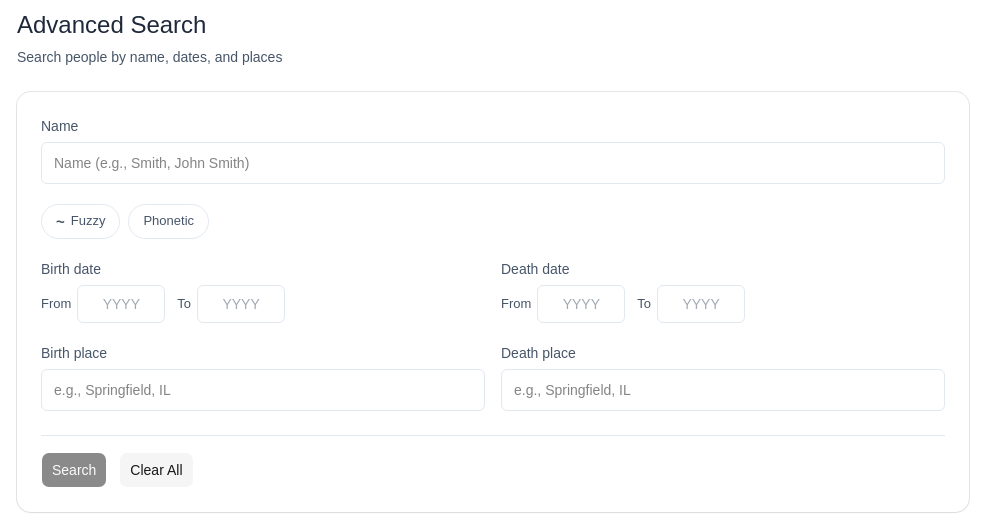
Scenario: Advanced Search Page › Form Interactions › Clear All resets all form fields to defaults
# Fill in various fields
Type "Smith" into the field with placeholder "Name (e.g., Smith, John Smith)" at (493, 163), box [41, 142, 945, 184]
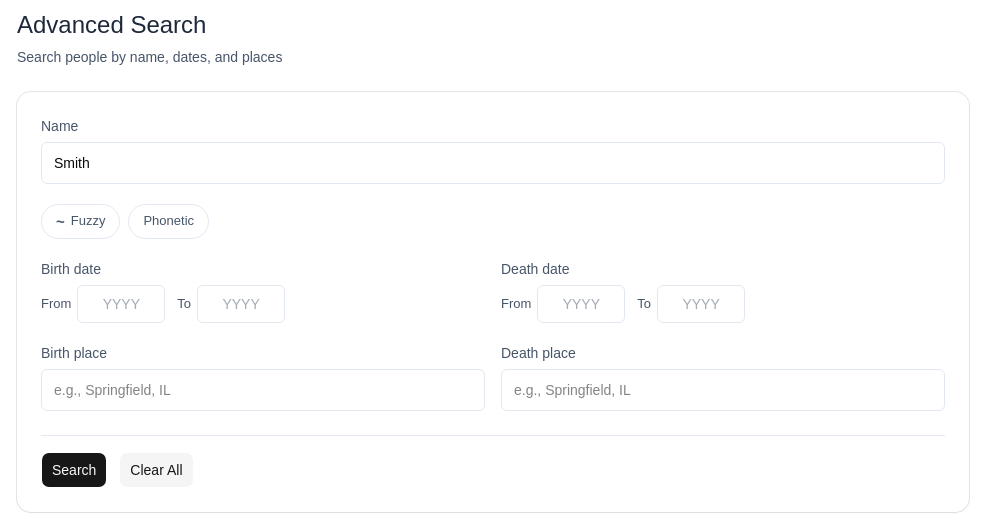
Type "1850" into the field with placeholder "YYYY" below "Birth date" at (121, 304), box [77, 285, 165, 323]
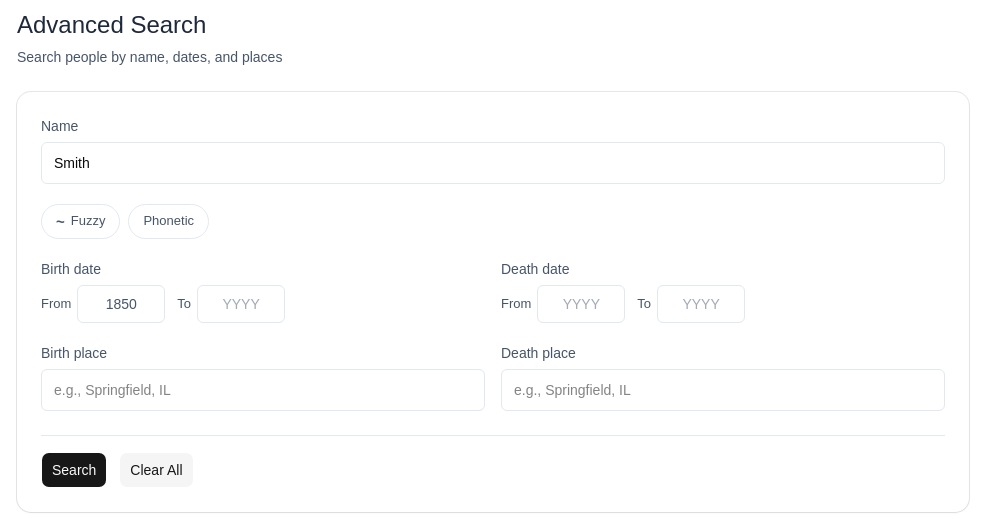
Click the button "~ Fuzzy" at (81, 222), box [41, 204, 120, 239]
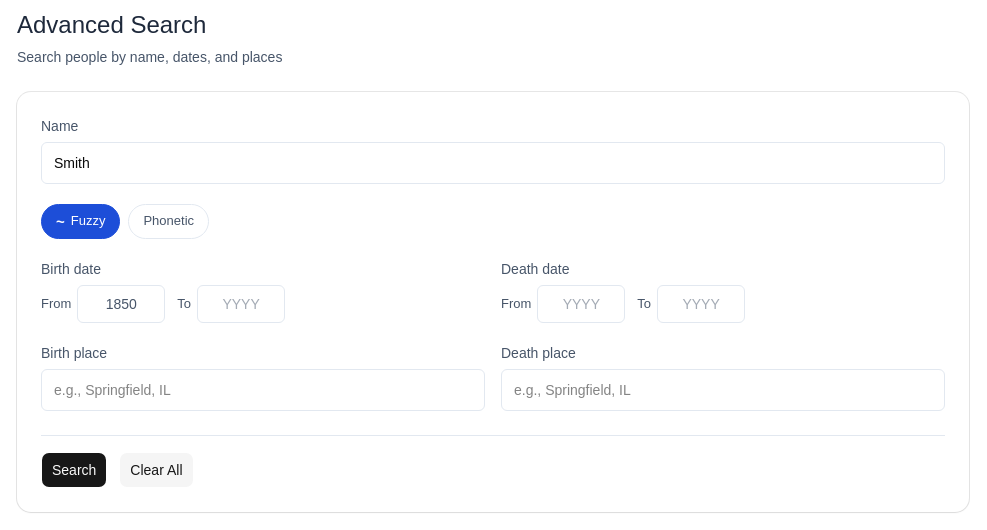
Check: the button "~ Fuzzy" is pressed, box [41, 204, 120, 239]
# Click Clear All
Click the button "Clear All" at (156, 470), box [119, 452, 194, 488]
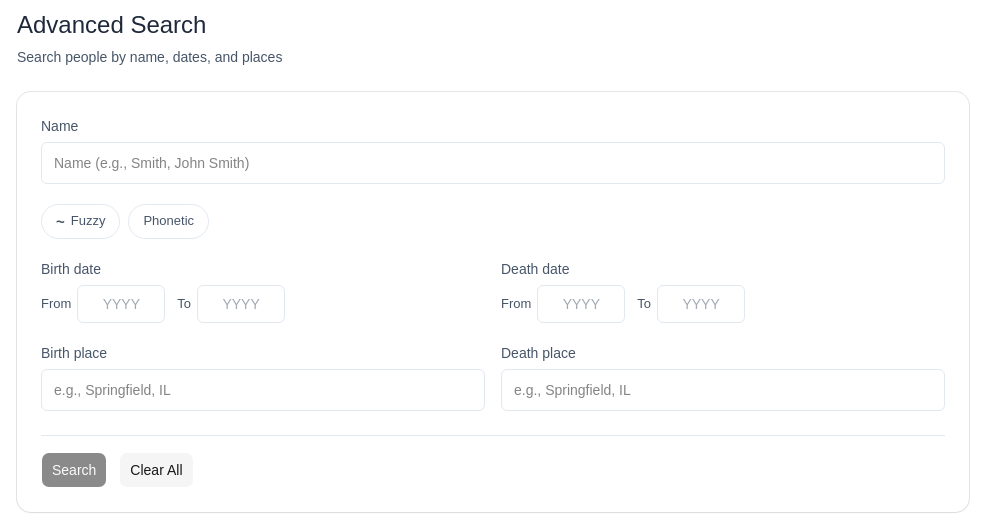
Check: the field with placeholder "Name (e.g., Smith, John Smith)" is empty, box [41, 142, 945, 184]
Check: the field with placeholder "YYYY" below "Birth date" is empty, box [77, 285, 165, 323]
